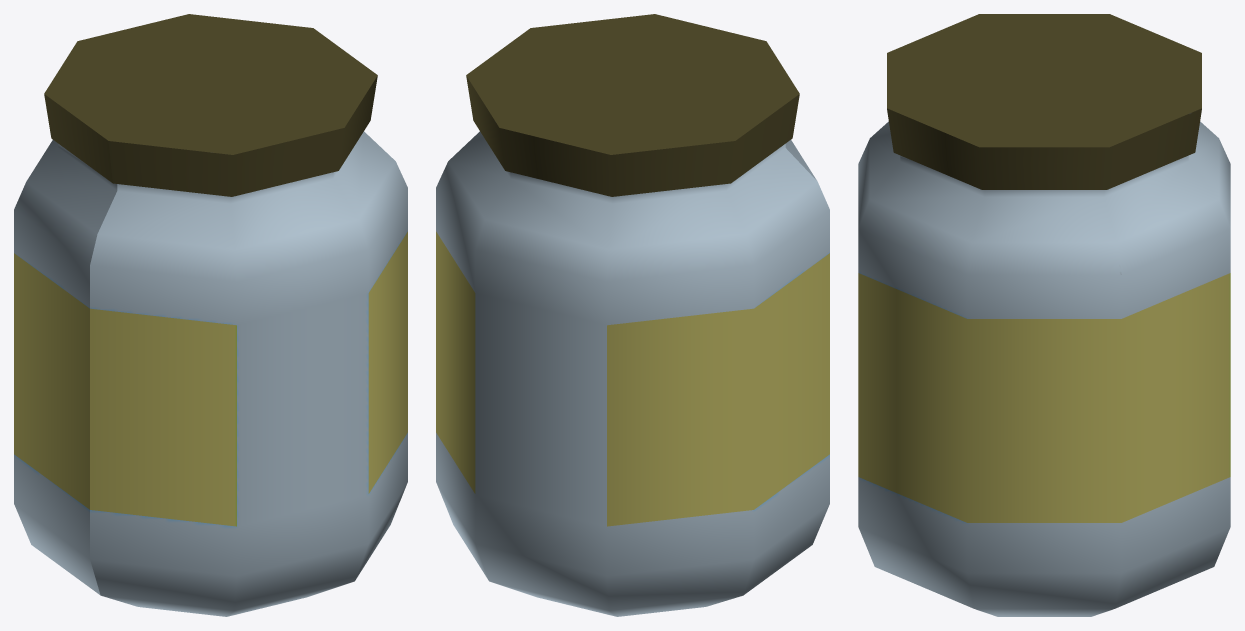
File: FireFlyJar.fbx
The picture shows the model from 3 angles, left to right: view 1: azimuth 30°, elevation 25°; view 2: azimuth 150°, elevation 25°; view 3: azimuth 270°, elevation 25°; orthographic projection.
Visible parts, largest first — view 1: FireFlyJar; view 2: FireFlyJar; view 3: FireFlyJar.
Part boxes in pixels (<box>): FireFlyJar: <box>14,14,407,616</box>; FireFlyJar: <box>436,14,829,616</box>; FireFlyJar: <box>858,14,1230,616</box>.
Bounding box in the file's own units: 231 × 335 × 231.
